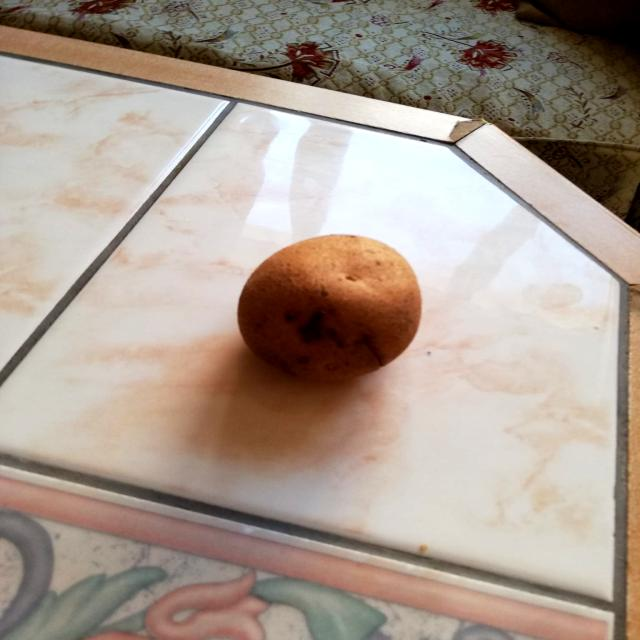potato: (232, 212, 425, 390)
